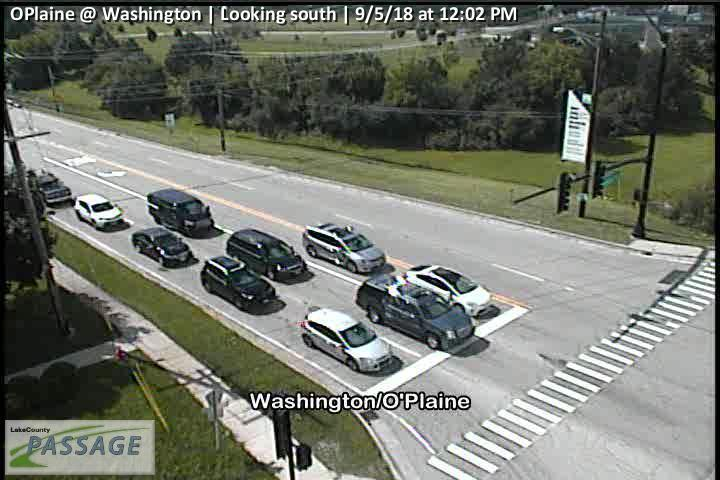SUV: (356, 275, 476, 351), (302, 308, 392, 372), (200, 255, 277, 312), (227, 229, 308, 283), (303, 221, 385, 274), (147, 189, 214, 236), (73, 194, 123, 231), (24, 168, 71, 206)
Sedan: (403, 264, 492, 320), (130, 226, 192, 268)
